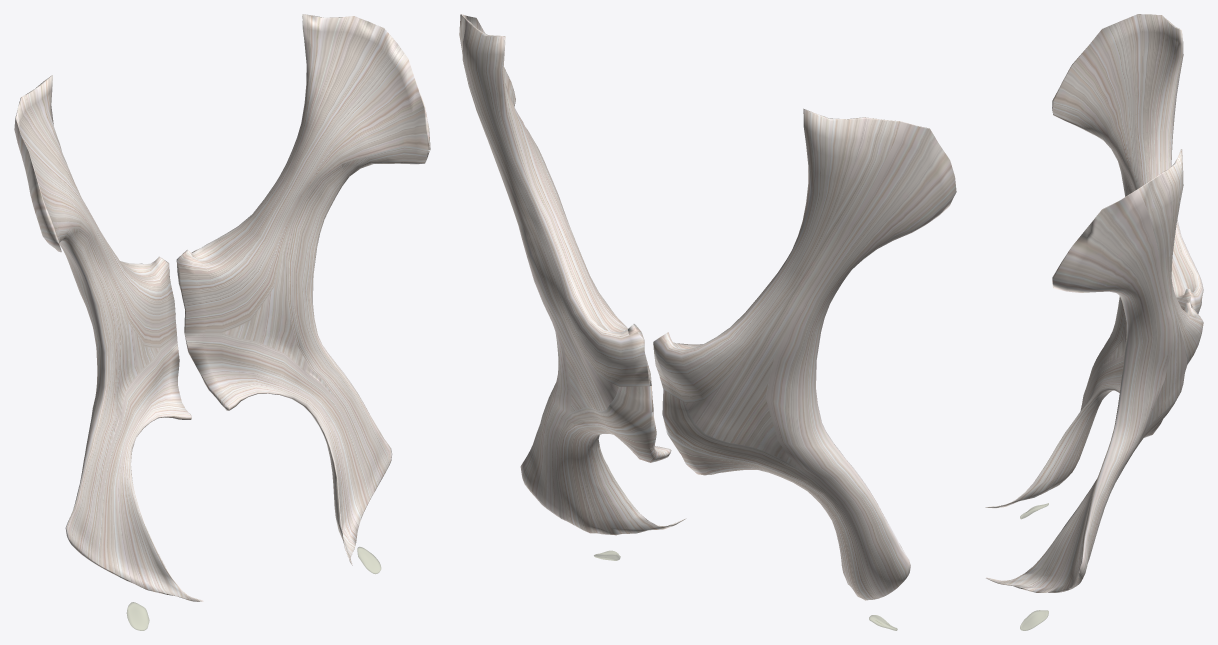
File: pelvic_attach_s124_male.glb
3 renders of one model, left to right at view 1: azimuth 30°, elevation 25°; view 2: azimuth 150°, elevation 25°; view 3: azimuth 270°, elevation 25°, orthographic. The views are drawn at different scales.
Parts seen in each view (by area): view 1: Sacrotuberal ligament.l, Sacrotuberal ligament.r; view 2: Sacrotuberal ligament.r, Sacrotuberal ligament.l; view 3: Sacrotuberal ligament.l, Sacrotuberal ligament.r, Superior bursa of biceps femoris.l.
Part boxes in pixels (left/top/right/bottom): Sacrotuberal ligament.l: left=176, top=14, right=430, bottom=565; Sacrotuberal ligament.r: left=14, top=75, right=203, bottom=601; Sacrotuberal ligament.r: left=653, top=108, right=956, bottom=600; Sacrotuberal ligament.l: left=459, top=14, right=685, bottom=535; Sacrotuberal ligament.l: left=986, top=149, right=1203, bottom=592; Sacrotuberal ligament.r: left=985, top=14, right=1203, bottom=508; Superior bursa of biceps femoris.l: left=1020, top=610, right=1048, bottom=630.
Bounding box in the file's own units: 0.1331 × 0.1655 × 0.0676.
2 materials, 1 textured.
